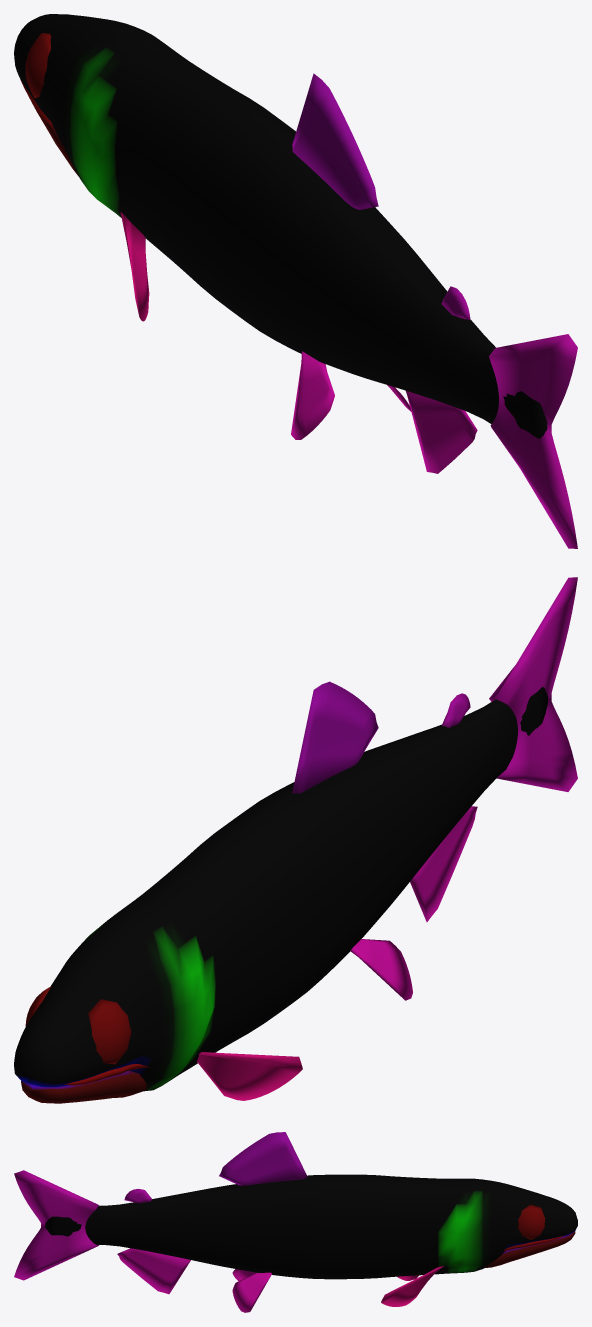
The model's file is sockeye_parr_lo.glb.
The picture shows the model from 3 angles, top to bottom: view 1: azimuth 30°, elevation 25°; view 2: azimuth 150°, elevation 25°; view 3: azimuth 270°, elevation 25°; orthographic projection. The views are drawn at different scales.
Parts seen in each view (by area): view 1: sockeye_parr_lo; view 2: sockeye_parr_lo; view 3: sockeye_parr_lo.
Part boxes in pixels (x1,y1,x2,y2): sockeye_parr_lo: [14, 14, 577, 548]; sockeye_parr_lo: [14, 577, 577, 1103]; sockeye_parr_lo: [14, 1132, 577, 1312].
Size of the model in its own units: 0.1024 by 0.1931 by 0.5935.
